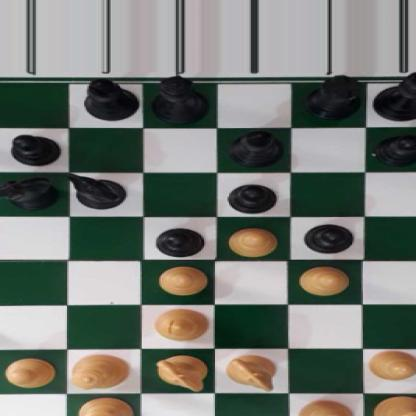black-bishop: (81, 75, 137, 119), (231, 130, 282, 167)
black-king: (372, 72, 416, 122)
black-knight: (65, 173, 126, 207), (0, 174, 56, 209)
black-pawn: (224, 182, 277, 213), (153, 225, 204, 257), (9, 132, 56, 165), (304, 222, 354, 253), (375, 132, 416, 163)
black-queen: (148, 74, 210, 121)
black-rook: (302, 74, 361, 120)
white-bishop: (153, 307, 207, 340), (75, 396, 131, 416)
white-king: (374, 395, 416, 416)
white-knight: (223, 354, 276, 390), (153, 356, 207, 391)
white-pawn: (0, 356, 53, 388), (366, 349, 416, 381), (296, 264, 347, 295), (156, 263, 206, 294), (224, 225, 277, 254)
white-queen: (70, 352, 126, 390)
white-rook: (298, 400, 354, 416)
